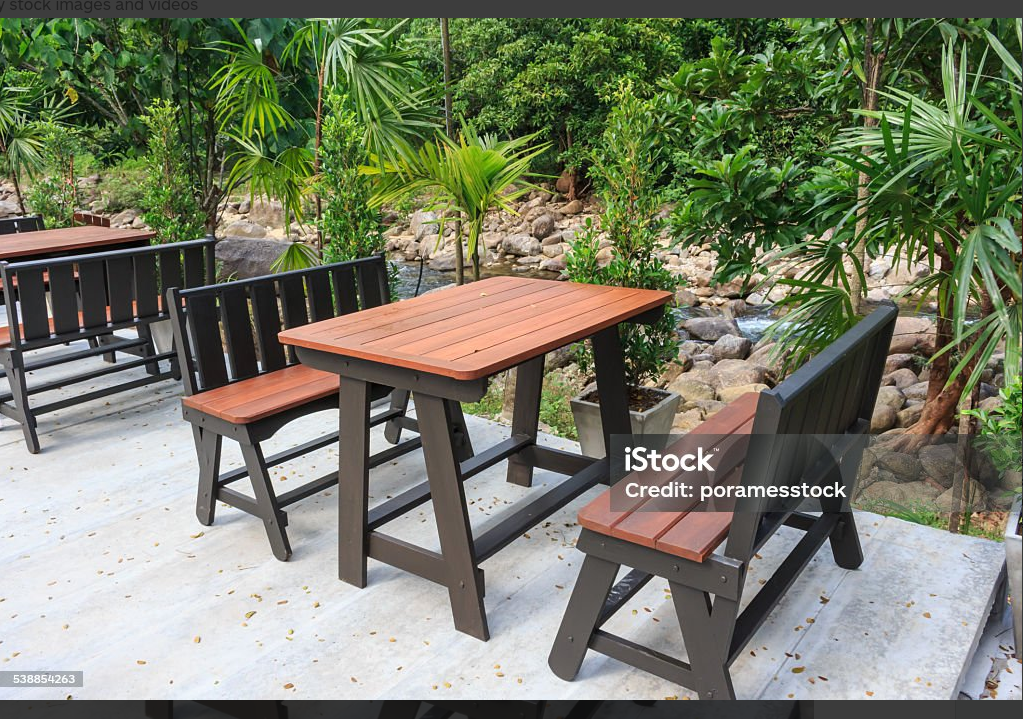obstacle: (289, 272, 680, 631), (551, 304, 903, 684), (163, 263, 435, 551), (562, 95, 675, 443), (11, 242, 184, 439)
